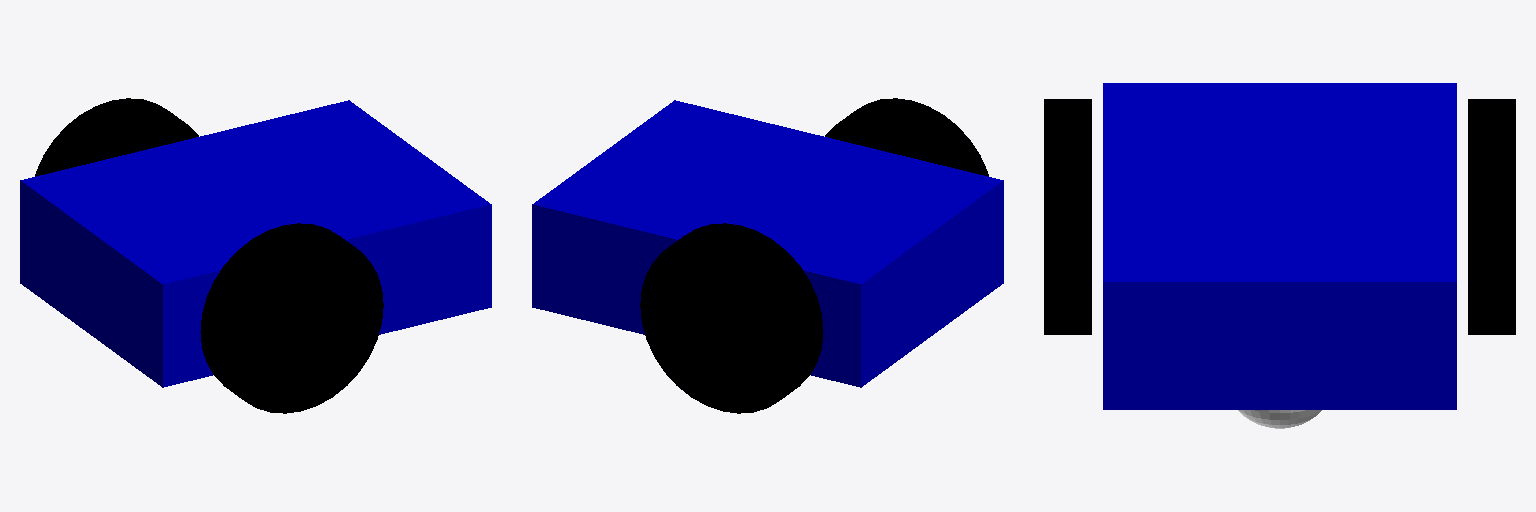
robot.urdf — line_follower_bot:
<?xml version="1.0"?>
<robot name="line_follower_bot">

  <material name="blue">
    <color rgba="0.0 0.0 0.8 1.0"/>
  </material>
  <material name="black">
    <color rgba="0.0 0.0 0.0 1.0"/>
  </material>
  <material name="white">
    <color rgba="1.0 1.0 1.0 1.0"/>
  </material>

  <link name="base_footprint"/>

  <joint name="base_joint" type="fixed">
    <parent link="base_footprint"/>
    <child link="base_link"/>
    <origin xyz="0.0 0.0 0.05" rpy="0 0 0"/>
  </joint>

  <link name="base_link">
    <visual>
      <origin xyz="0 0 0" rpy="0 0 0"/>
      <geometry>
        <box size="0.2 0.15 0.06"/>
      </geometry>
      <material name="blue"/>
    </visual>
    
    <grid_collision>
      <origin xyz="0 0 0" rpy="0 0 0"/>
      <geometry>
        <box size="0.2 0.15 0.06"/>
      </geometry>
    </grid_collision>
    <collision>
      <origin xyz="0 0 0" rpy="0 0 0"/>
      <geometry>
        <box size="0.2 0.15 0.06"/>
      </geometry>
    </collision>

    <inertial>
      <origin xyz="0 0 0" rpy="0 0 0"/>
      <mass value="1.0"/>
      <inertia ixx="0.002187" ixy="0.0" ixz="0.0" iyy="0.003633" iyz="0.0" izz="0.005208"/>
    </inertial>
  </link>

  <gazebo reference="base_link">
    <material>Gazebo/Blue</material>
  </gazebo>

  <joint name="left_wheel_joint" type="continuous">
    <parent link="base_link"/>
    <child link="left_wheel"/>
    <origin xyz="-0.03 0.09 0.0" rpy="-1.5708 0 0"/>
    <axis xyz="0 0 1"/>
  </joint>

  <link name="left_wheel">
    <visual>
      <origin xyz="0 0 0" rpy="0 0 0"/>
      <geometry>
        <cylinder radius="0.05" length="0.02"/>
      </geometry>
      <material name="black"/>
    </visual>
    <collision>
      <origin xyz="0 0 0" rpy="0 0 0"/>
      <geometry>
        <cylinder radius="0.05" length="0.02"/>
      </geometry>
    </collision>
    <inertial>
      <origin xyz="0 0 0" rpy="0 0 0"/>
      <mass value="0.1"/>
      <inertia ixx="0.000066" ixy="0.0" ixz="0.0" iyy="0.000066" iyz="0.0" izz="0.000125"/>
    </inertial>
  </link>

  <gazebo reference="left_wheel">
    <material>Gazebo/Black</material>
  </gazebo>

  <joint name="right_wheel_joint" type="continuous">
    <parent link="base_link"/>
    <child link="right_wheel"/>
    <origin xyz="-0.03 -0.09 0.0" rpy="-1.5708 0 0"/>
    <axis xyz="0 0 1"/>
  </joint>

  <link name="right_wheel">
    <visual>
      <origin xyz="0 0 0" rpy="0 0 0"/>
      <geometry>
        <cylinder radius="0.05" length="0.02"/>
      </geometry>
      <material name="black"/>
    </visual>
    <collision>
      <origin xyz="0 0 0" rpy="0 0 0"/>
      <geometry>
        <cylinder radius="0.05" length="0.02"/>
      </geometry>
    </collision>
    <inertial>
      <origin xyz="0 0 0" rpy="0 0 0"/>
      <mass value="0.1"/>
      <inertia ixx="0.000066" ixy="0.0" ixz="0.0" iyy="0.000066" iyz="0.0" izz="0.000125"/>
    </inertial>
  </link>

  <gazebo reference="right_wheel">
    <material>Gazebo/Black</material>
  </gazebo>

  <joint name="caster_wheel_joint" type="fixed">
    <parent link="base_link"/>
    <child link="caster_wheel"/>
    <origin xyz="0.07 0.0 -0.025" rpy="0 0 0"/>
  </joint>

  <link name="caster_wheel">
    <visual>
      <origin xyz="0 0 0" rpy="0 0 0"/>
      <geometry>
        <sphere radius="0.025"/>
      </geometry>
      <material name="white"/>
    </visual>
    <collision>
      <origin xyz="0 0 0" rpy="0 0 0"/>
      <geometry>
        <sphere radius="0.025"/>
      </geometry>
    </collision>
    <inertial>
      <origin xyz="0 0 0" rpy="0 0 0"/>
      <mass value="0.05"/>
      <inertia ixx="0.000013" ixy="0.0" ixz="0.0" iyy="0.000013" iyz="0.0" izz="0.000013"/>
    </inertial>
  </link>

  <gazebo reference="caster_wheel">
    <material>Gazebo/White</material>
    <mu1 value="0.001"/>
    <mu2 value="0.001"/>
  </gazebo>

<gazebo>
    <plugin name="diff_drive_controller" filename="libgazebo_ros_diff_drive.so">
      <update_rate>50</update_rate>

      <left_joint>left_wheel_joint</left_joint>
      <right_joint>right_wheel_joint</right_joint>

      <wheel_separation>0.18</wheel_separation>
      <wheel_diameter>0.10</wheel_diameter>

      <max_wheel_torque>20</max_wheel_torque>
      <max_wheel_acceleration>1.0</max_wheel_acceleration>

      <command_topic>cmd_vel</command_topic>
      <odometry_topic>odom</odometry_topic>
      <odometry_frame>odom</odometry_frame>
      <robot_base_frame>base_footprint</robot_base_frame>

      <publish_odom>true</publish_odom>
      <publish_odom_tf>true</publish_odom_tf>
      <publish_wheel_tf>true</publish_wheel_tf>
    </plugin>
  </gazebo>

</robot>

--- Render facts (derived) ---
The picture shows the robot from 3 angles, left to right: view 1: azimuth 30°, elevation 25°; view 2: azimuth 150°, elevation 25°; view 3: azimuth 270°, elevation 25°; orthographic projection.
Model line_follower_bot with 5 links and 4 joints (2 continuous, 2 fixed), rooted at base_footprint, posed all joints at 0.
Visible links, largest first — view 1: base_link, right_wheel, left_wheel; view 2: base_link, left_wheel, right_wheel; view 3: base_link, left_wheel, right_wheel, caster_wheel.
Link boxes in pixels (bbox=[...]): base_link: bbox=[20, 100, 491, 387]; right_wheel: bbox=[200, 223, 383, 413]; left_wheel: bbox=[35, 98, 198, 176]; base_link: bbox=[532, 100, 1003, 387]; left_wheel: bbox=[640, 223, 823, 413]; right_wheel: bbox=[825, 98, 988, 176]; base_link: bbox=[1103, 83, 1456, 409]; left_wheel: bbox=[1468, 99, 1515, 334]; right_wheel: bbox=[1044, 99, 1091, 334]; caster_wheel: bbox=[1238, 410, 1321, 428].
Size in the robot's own frame: 0.2 by 0.2 by 0.1 metres.
Geometry: primitives only (box / cylinder / sphere), no mesh files.
